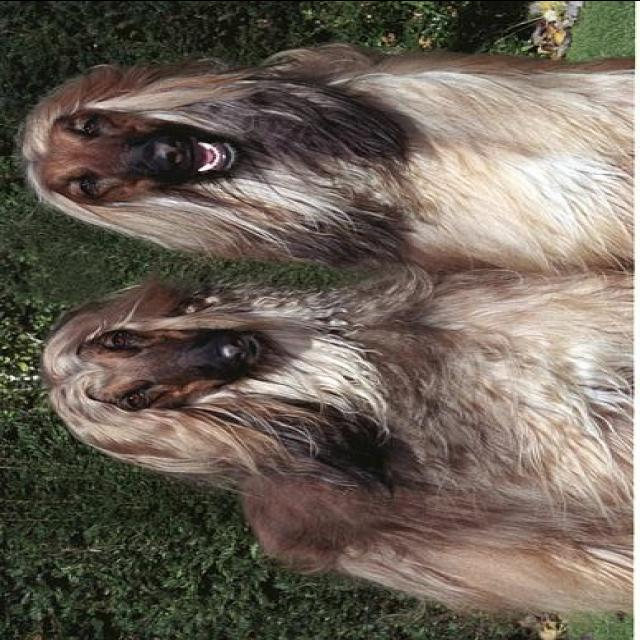afghan_hound: (48, 275, 632, 608), (21, 44, 637, 272)
